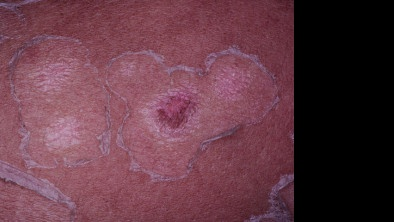SJS-TEN: (0, 0, 293, 222)
